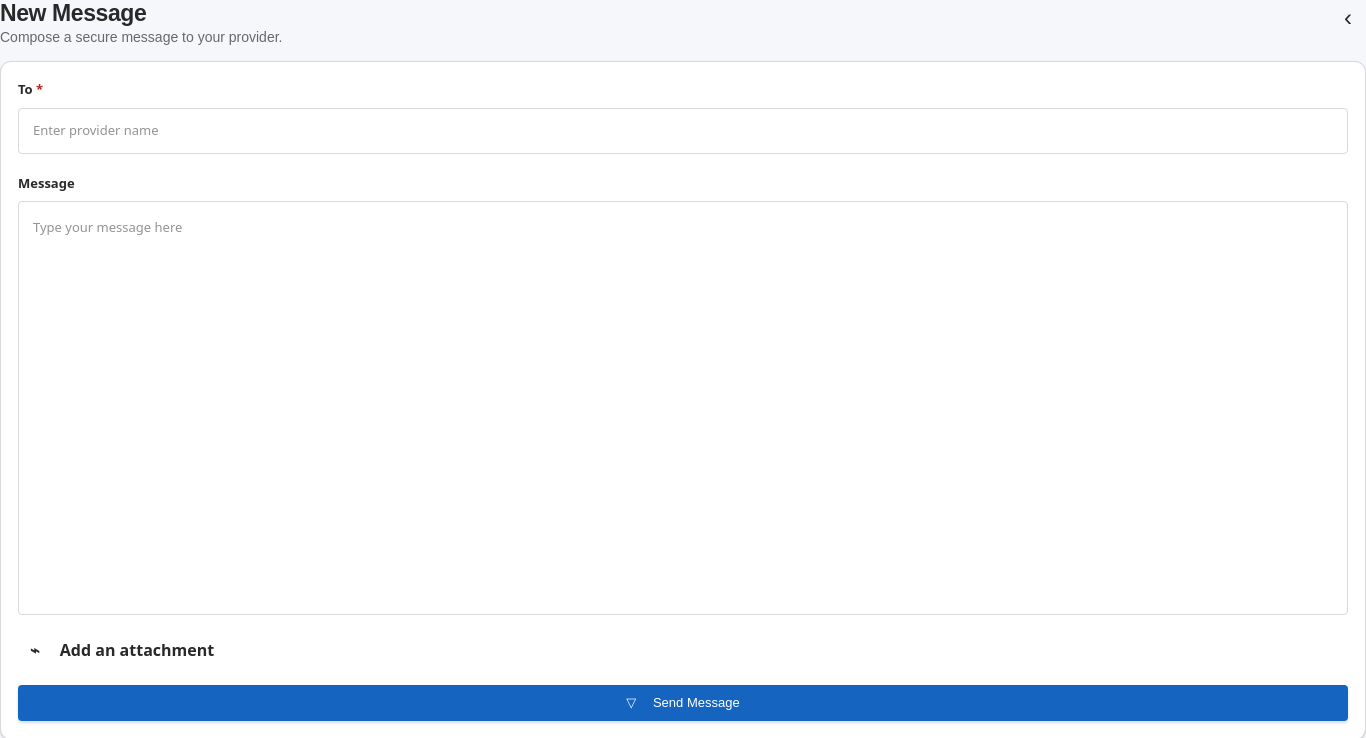
CareConnect New Message › shows validation errors when submitting an empty message
The width and height of the screenshot is (1366, 738).
What coordinates should you click on to do the following:
click the button "▽ Send Message"
I would click on:
 (683, 703)
Its box is [18, 685, 1348, 721].
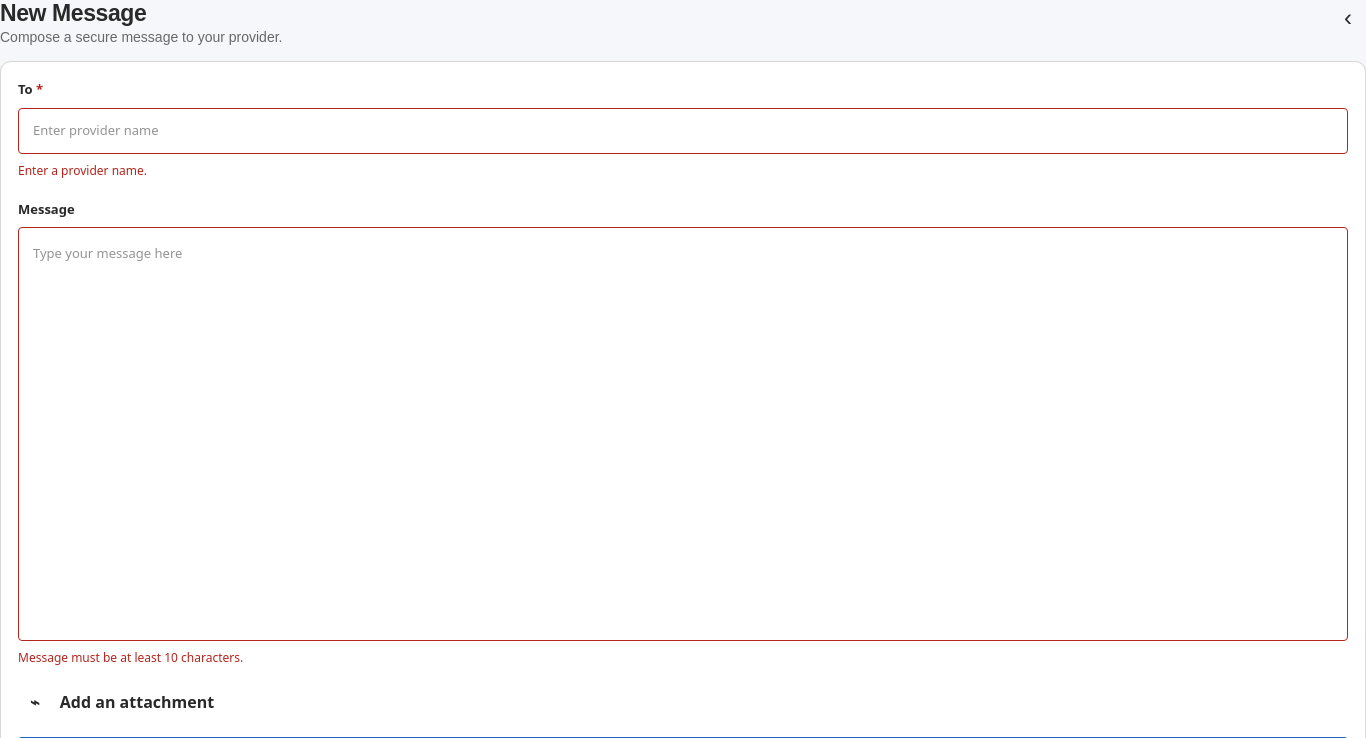
Expected: the text "Enter a provider name." is shown, [18, 162, 147, 178]
Expected: the text "Message must be at least 10 characters." is shown, [18, 649, 243, 666]
